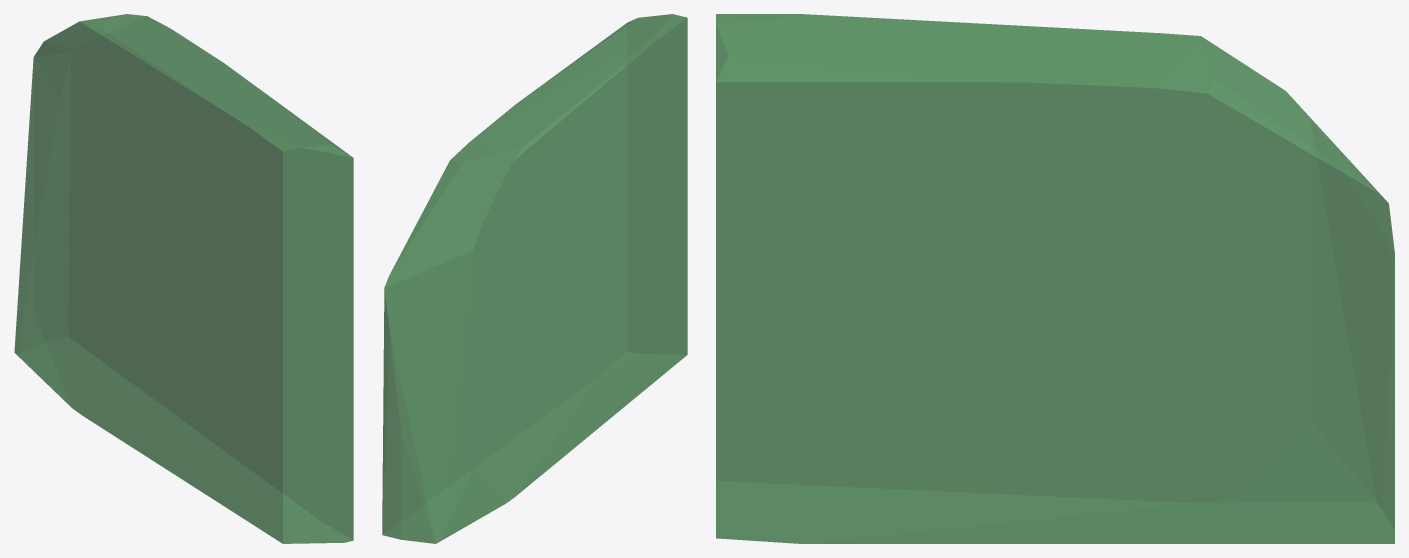
3 views of the same model, side by side, from view 1: azimuth 30°, elevation 25°; view 2: azimuth 150°, elevation 25°; view 3: azimuth 270°, elevation 25° (orthographic). The views are drawn at different scales.
Parts seen in each view (by area): view 1: Shape_IndexedFaceSet.003_Shape_IndexedFaceSet.1479; view 2: Shape_IndexedFaceSet.003_Shape_IndexedFaceSet.1479; view 3: Shape_IndexedFaceSet.003_Shape_IndexedFaceSet.1479.
Boxes of the visible parts, box(x1,y1,x2,y2) form: Shape_IndexedFaceSet.003_Shape_IndexedFaceSet.1479: box(14, 14, 353, 543); Shape_IndexedFaceSet.003_Shape_IndexedFaceSet.1479: box(382, 14, 687, 543); Shape_IndexedFaceSet.003_Shape_IndexedFaceSet.1479: box(716, 14, 1394, 543).
Bounding box in the file's own units: 0.00818 × 0.0455 × 0.0573.
